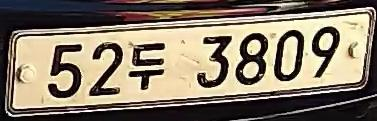0: (271, 27, 307, 85)
2: (86, 38, 127, 100)
3: (196, 33, 234, 93)
5: (45, 40, 87, 101)
8: (233, 27, 271, 88)
9: (310, 23, 343, 81)
두: (127, 40, 170, 93)
